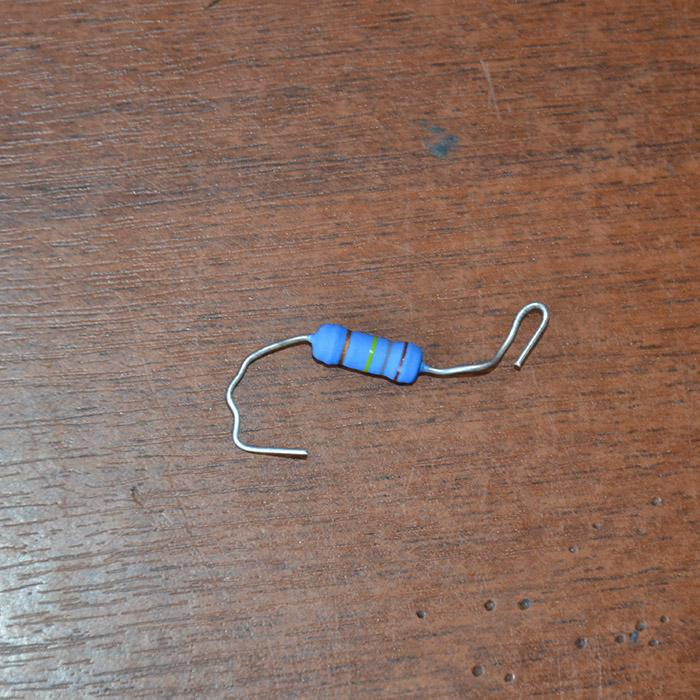resistor: (305, 321, 426, 386)
